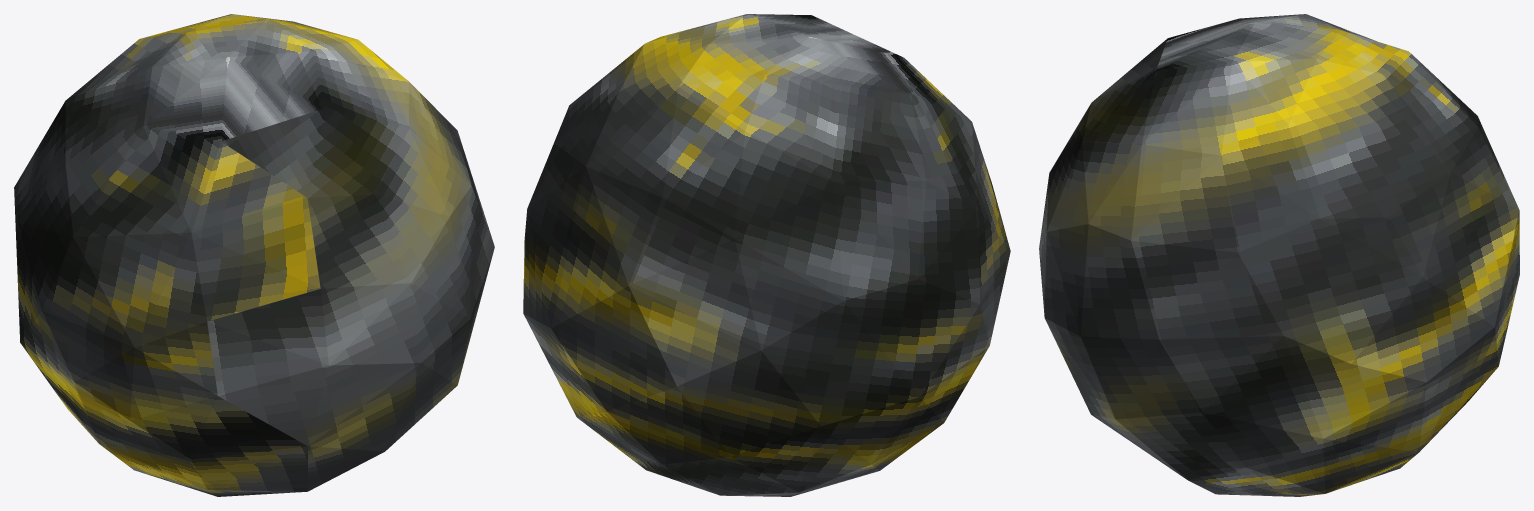
The model's file is firekairoseki_bullet.obj.
The picture shows the model from 3 angles, left to right: view 1: azimuth 30°, elevation 25°; view 2: azimuth 150°, elevation 25°; view 3: azimuth 270°, elevation 25°; orthographic projection.
Visible parts, largest first — view 1: Sphere; view 2: Sphere; view 3: Sphere.
Part boxes in pixels (x1,y1,x2,y2): Sphere: (14, 14, 494, 496); Sphere: (523, 14, 1010, 496); Sphere: (1039, 14, 1519, 496).
Size of the model in its own units: 0.8321 by 0.8185 by 0.8156.
